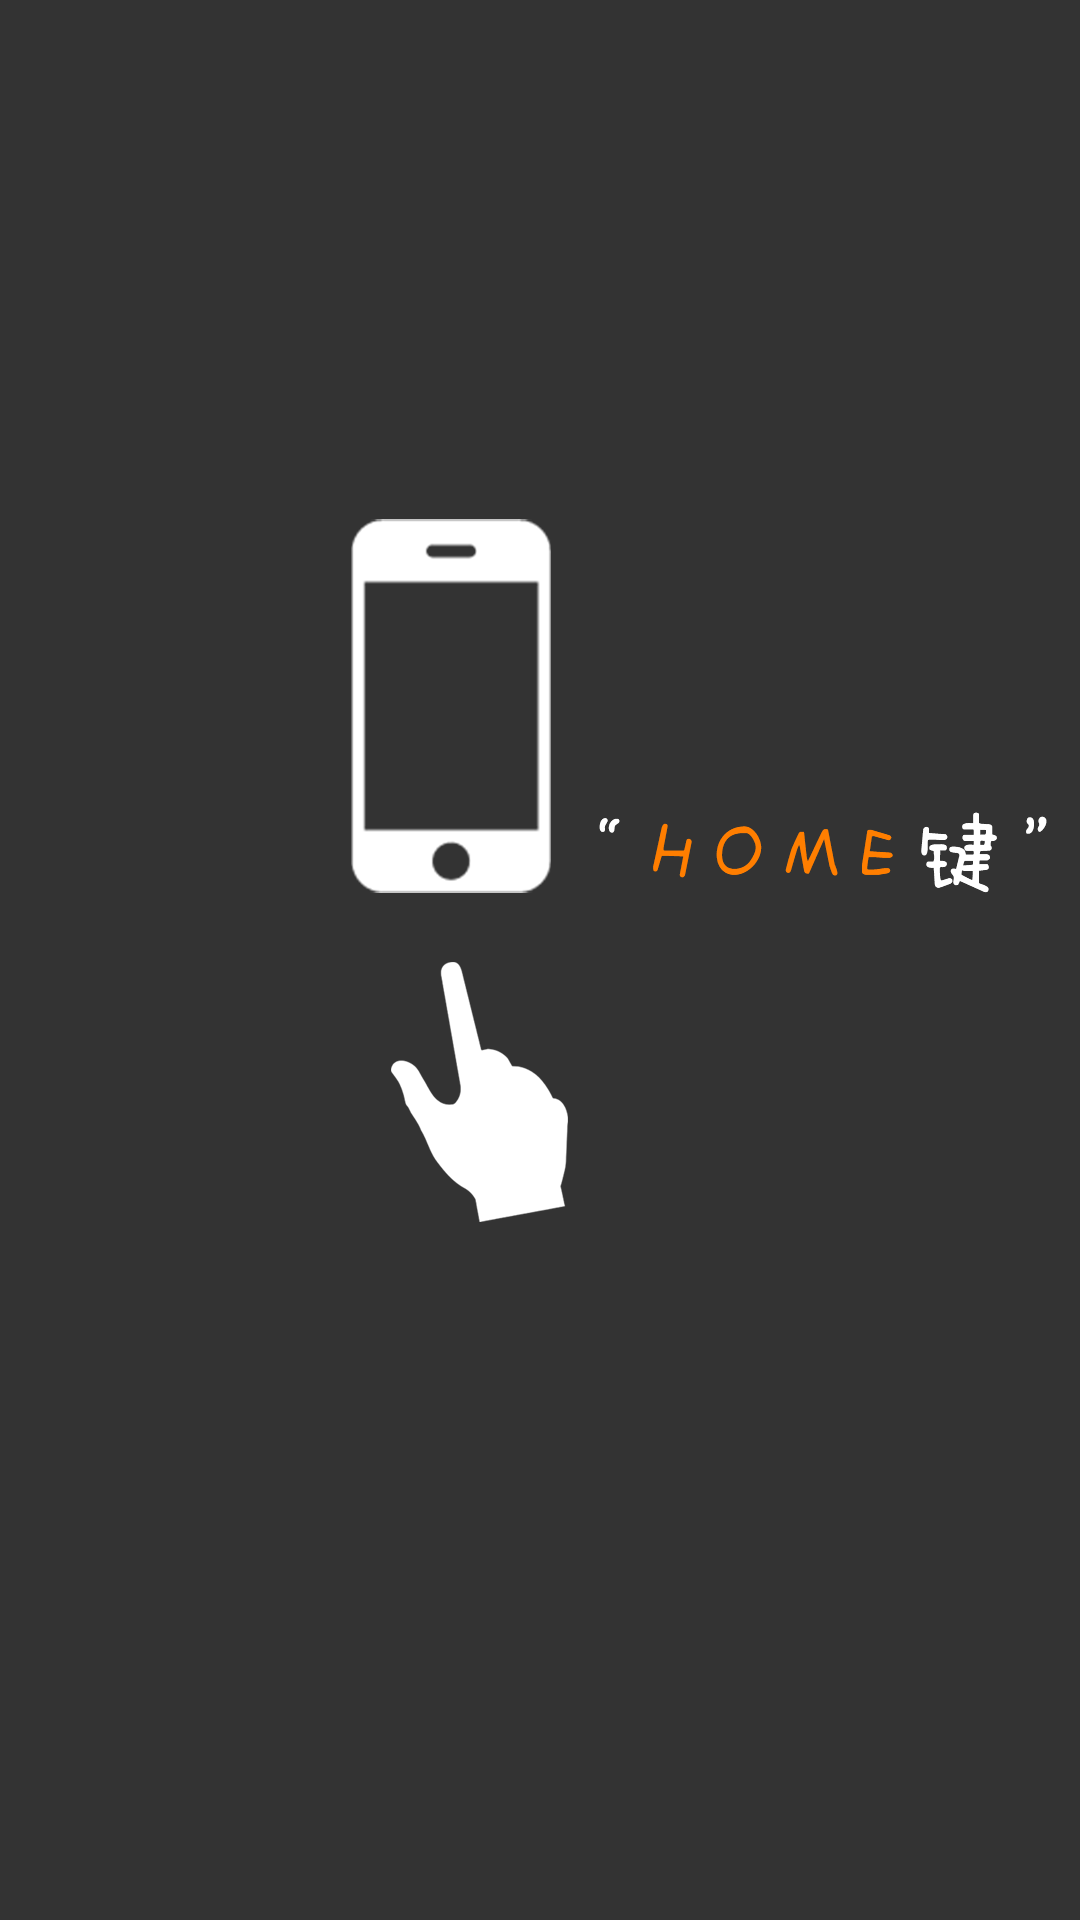

Where to tap for icons on this 1080w x 1920h app screen, as (x=x, y=y):
guide hand: (x=479, y=1092)
